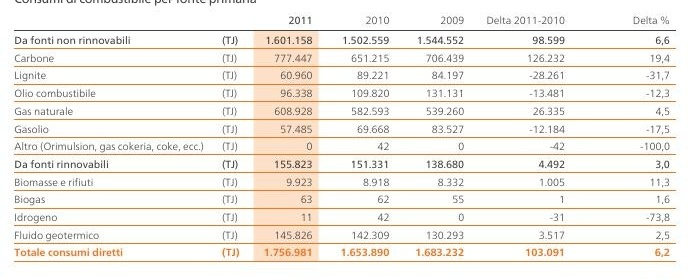table: (0, 0, 693, 279)
